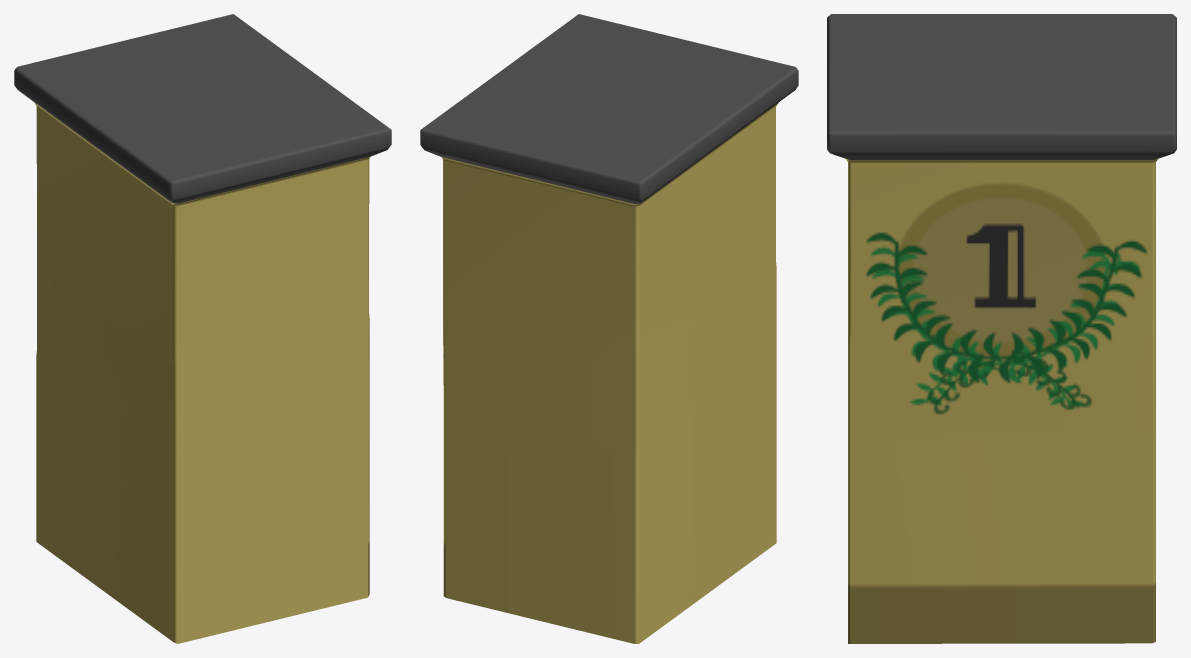
Rendered from pod1.fbx.
3 views of the same model, side by side, from view 1: azimuth 30°, elevation 25°; view 2: azimuth 150°, elevation 25°; view 3: azimuth 270°, elevation 25° (orthographic). The views are drawn at different scales.
Visible parts, largest first — view 1: polySurface3; view 2: polySurface3; view 3: polySurface3.
Boxes of the visible parts, box(x1,y1,x2,y2) form: polySurface3: box(14, 14, 391, 643); polySurface3: box(420, 14, 798, 643); polySurface3: box(827, 14, 1176, 643).
Size of the model in its own units: 1.13 by 2.3 by 1.4.
Materials: 1 (1 with a texture image).
